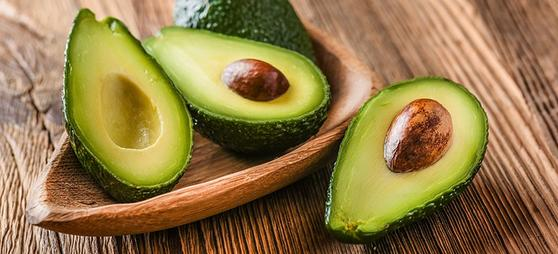avocado: (180, 1, 320, 53)
